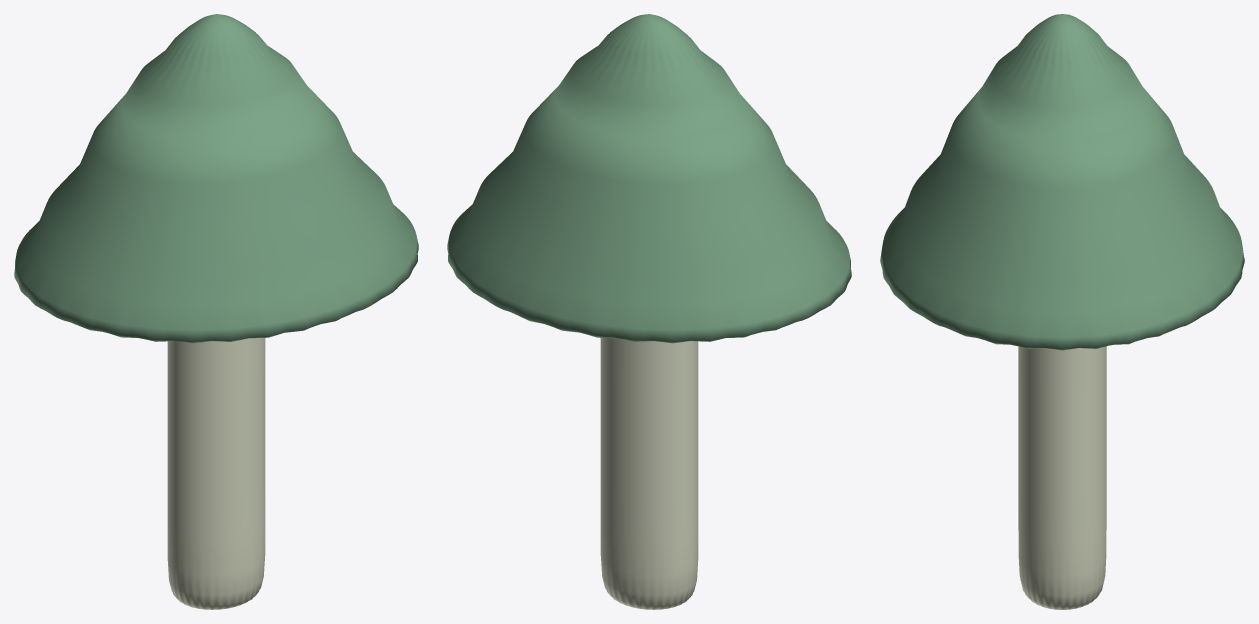
Rendered from grybas02.glb.
3 renders of one model, left to right at view 1: azimuth 30°, elevation 25°; view 2: azimuth 150°, elevation 25°; view 3: azimuth 270°, elevation 25°, orthographic.
Visible parts, largest first — view 1: Mushroom02; view 2: Mushroom02; view 3: Mushroom02.
Boxes of the visible parts, box(x1,y1,x2,y2) form: Mushroom02: box(14, 14, 418, 609); Mushroom02: box(447, 14, 851, 609); Mushroom02: box(880, 14, 1244, 609).
Bounding box in the file's own units: 0.3934 × 0.6113 × 0.3439.
